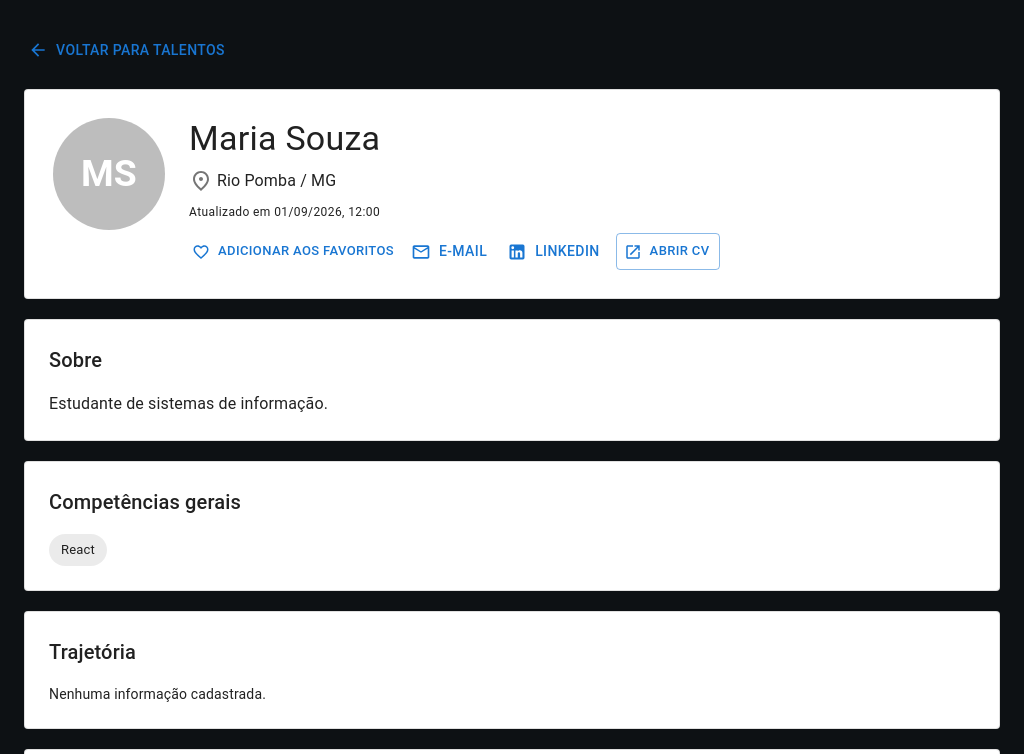
Scenario: TalentProfileView › resume › shows a dismissible error when the file cannot be opened
expect the heading "Maria Souza" is shown: met, box [189, 118, 380, 160]
Step 1. Click the button "Abrir CV" → [668, 252], box [616, 233, 720, 270]
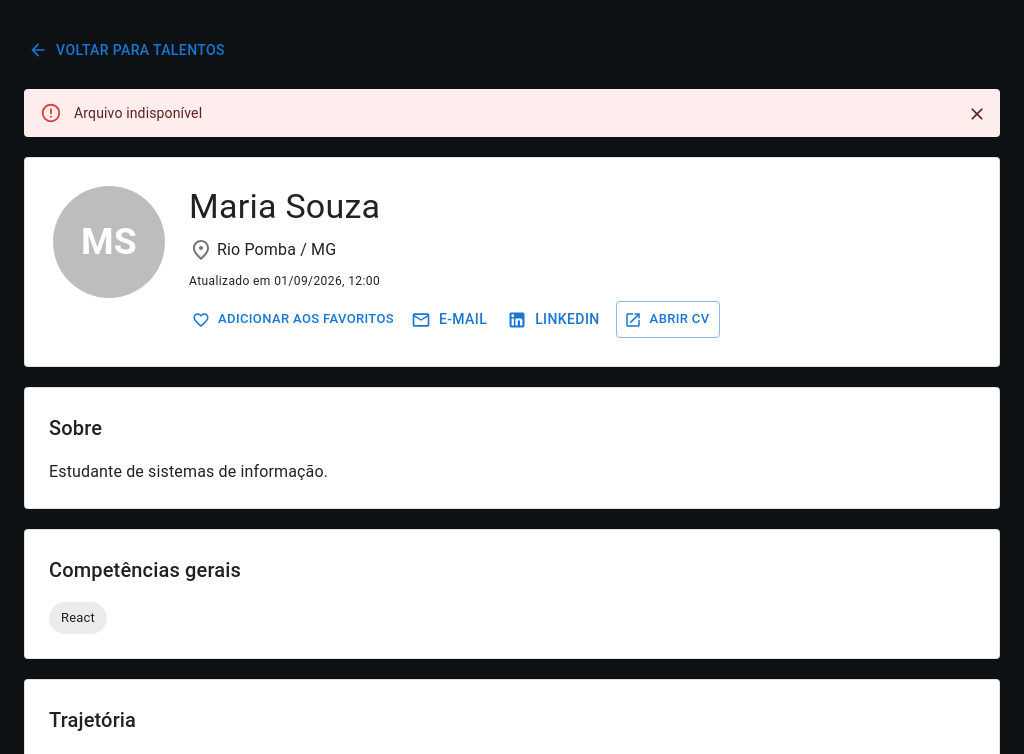
expect the message reads "Arquivo indisponível": met, box [74, 104, 202, 120]
Step 2. Click the button named "Close" → [977, 114], box [962, 98, 992, 128]
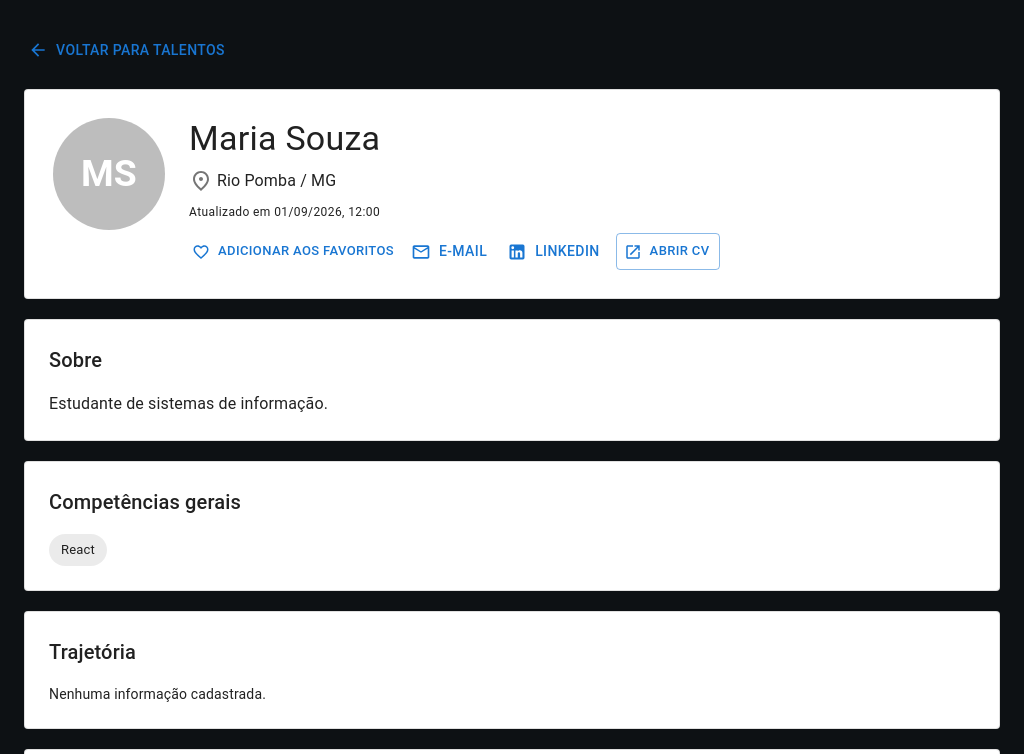
expect the message "Arquivo indisponível" is gone: met
